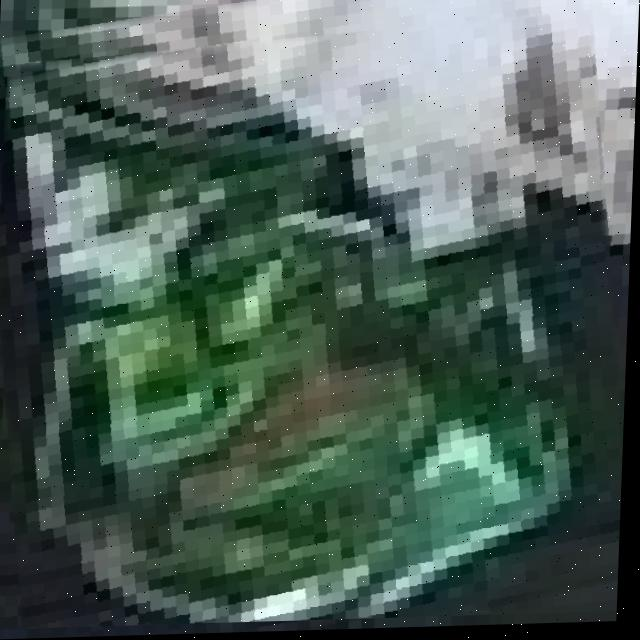can: (0, 46, 625, 626)
